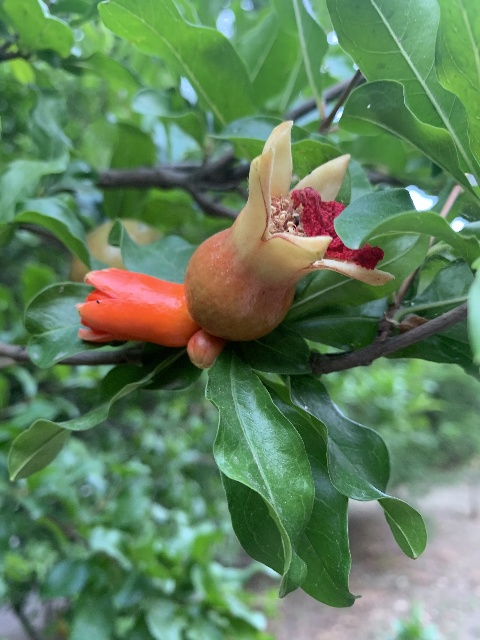bud: (186, 329, 225, 369)
early-fruit: (186, 120, 392, 343)
flower: (75, 267, 199, 347)
